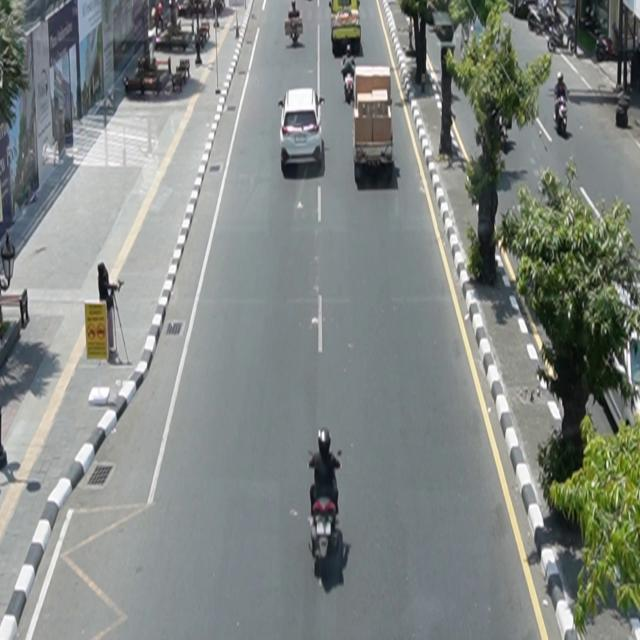car: (279, 88, 326, 171)
truck: (353, 66, 395, 182)
